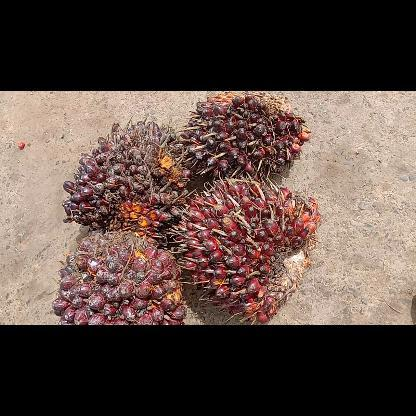Kurang masak: (167, 170, 323, 324), (61, 116, 200, 248)
TBS mentah: (48, 228, 192, 324), (178, 90, 314, 186)
